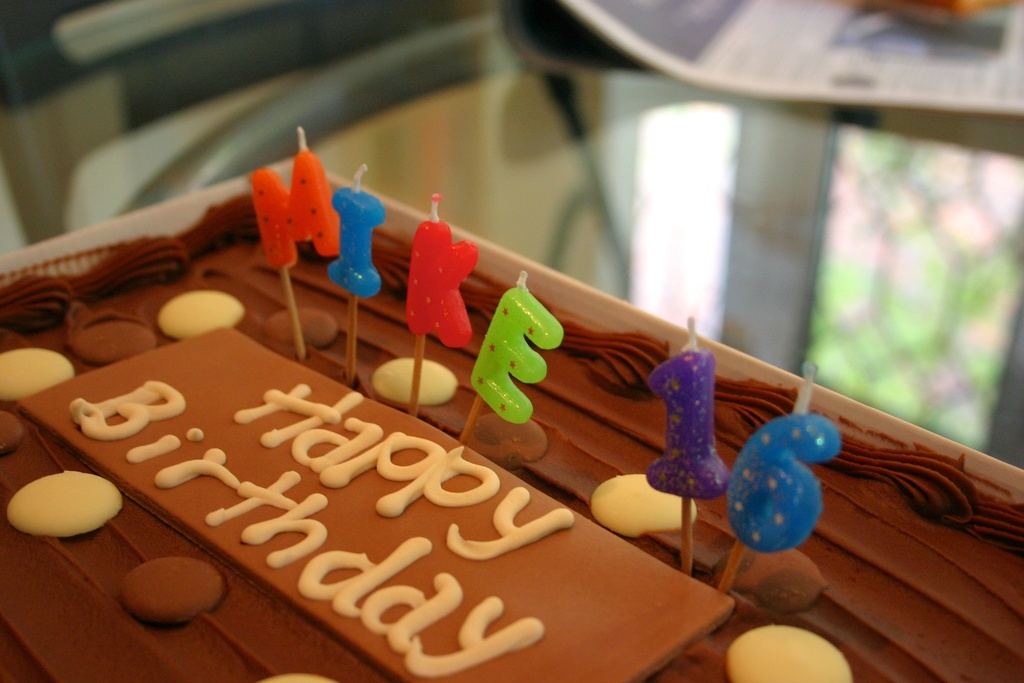cake: (0, 173, 1019, 682)
